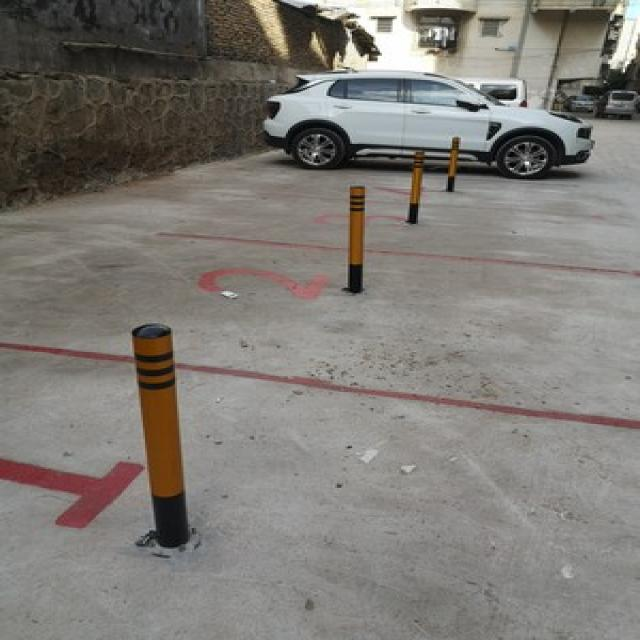car: (260, 70, 598, 178)
warning_column: (124, 322, 194, 547), (339, 180, 369, 290), (401, 148, 427, 222), (442, 134, 463, 189)
